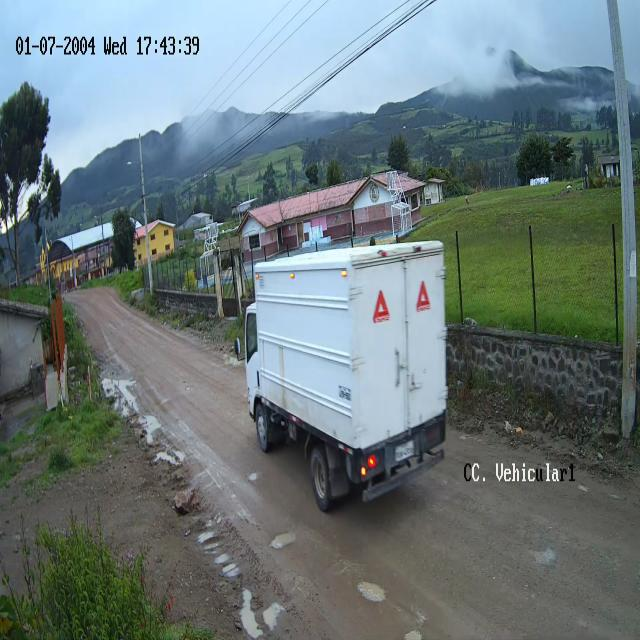TRUCK: (245, 242, 448, 514)
